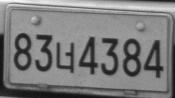3: (99, 37, 118, 76), (34, 34, 52, 72)
4: (142, 39, 164, 78), (77, 35, 98, 75)
8: (121, 37, 142, 77), (12, 32, 32, 71)
너: (55, 41, 75, 73)
